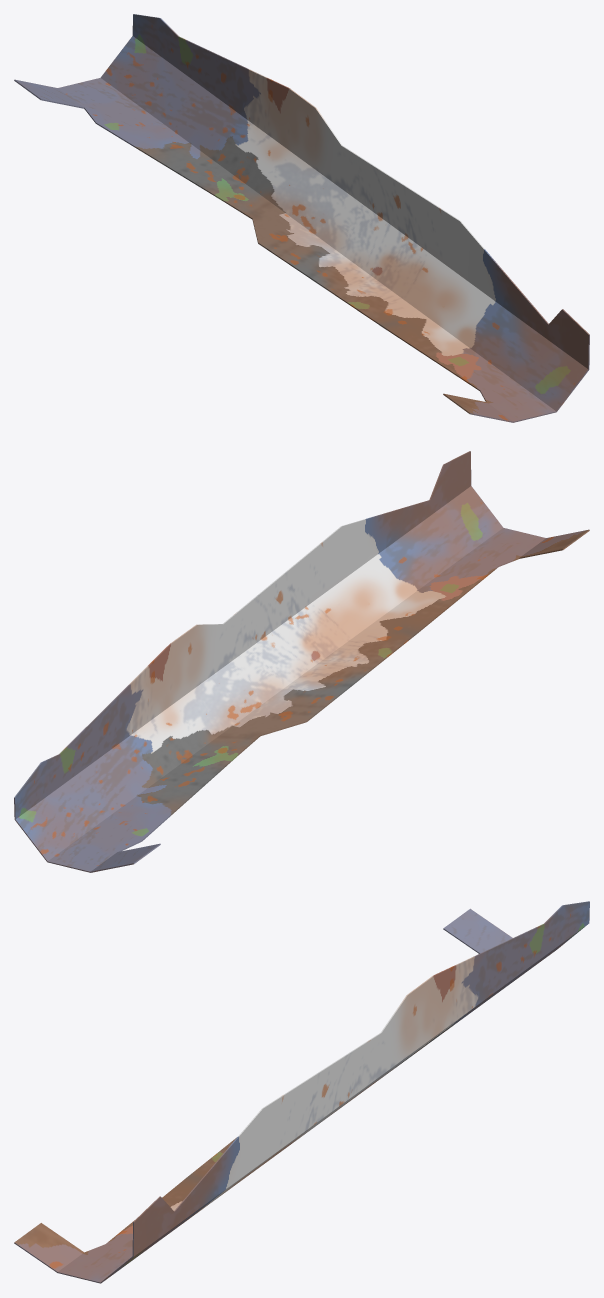
The model's file is m_TurbineBlade02.fbx.
3 views of the same model, one above another, from view 1: azimuth 30°, elevation 25°; view 2: azimuth 150°, elevation 25°; view 3: azimuth 330°, elevation 25° (orthographic).
Parts seen in each view (by area): view 1: TurbineBlade02; view 2: TurbineBlade02; view 3: TurbineBlade02.
Part boxes in pixels (x1,y1,x2,y2): TurbineBlade02: (14,14,589,422); TurbineBlade02: (14,451,589,872); TurbineBlade02: (14,901,589,1283).
Bounding box in the file's own units: 0.3042 × 0.2332 × 2.
1 material, 1 textured.
